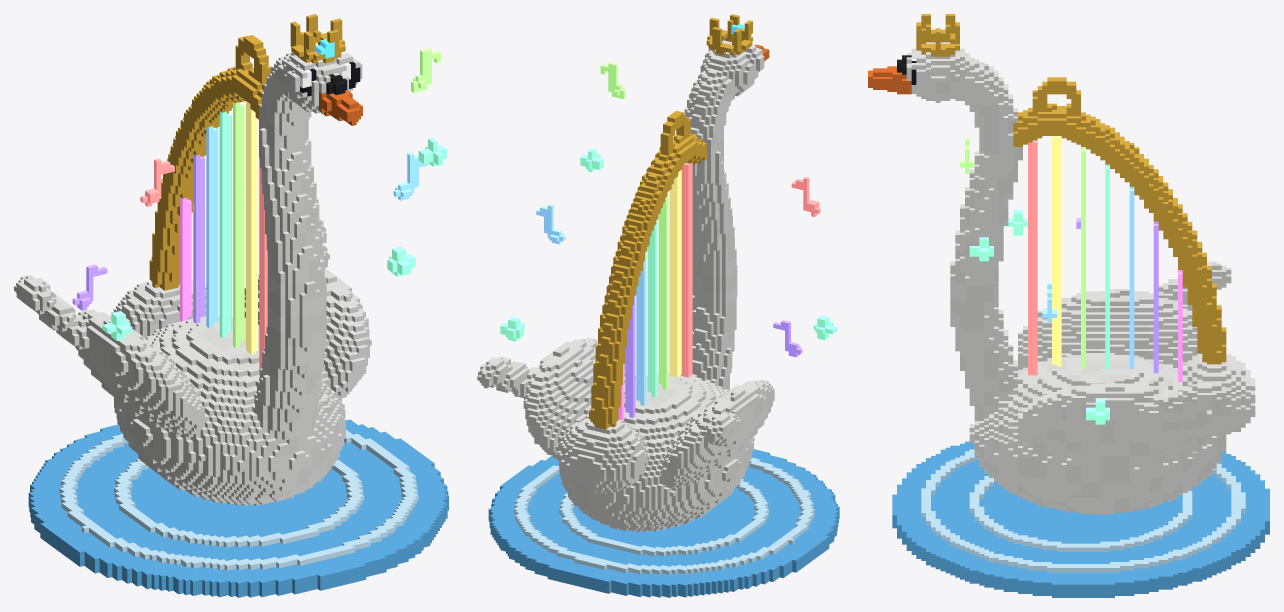
The model's file is arpa_cignetta.glb.
3 views of the same model, side by side, from view 1: azimuth 30°, elevation 25°; view 2: azimuth 150°, elevation 25°; view 3: azimuth 270°, elevation 25° (orthographic). The views are drawn at different scales.
Parts seen in each view (by area): view 1: SM_Brainrot_arpa_cignetta; view 2: SM_Brainrot_arpa_cignetta; view 3: SM_Brainrot_arpa_cignetta.
Part boxes in pixels (<box>): SM_Brainrot_arpa_cignetta: <box>14,14,448,597</box>; SM_Brainrot_arpa_cignetta: <box>477,14,839,597</box>; SM_Brainrot_arpa_cignetta: <box>868,14,1269,597</box>.
Size of the model in its own units: 4.74 by 6.78 by 4.98.
1 material, 1 textured.
